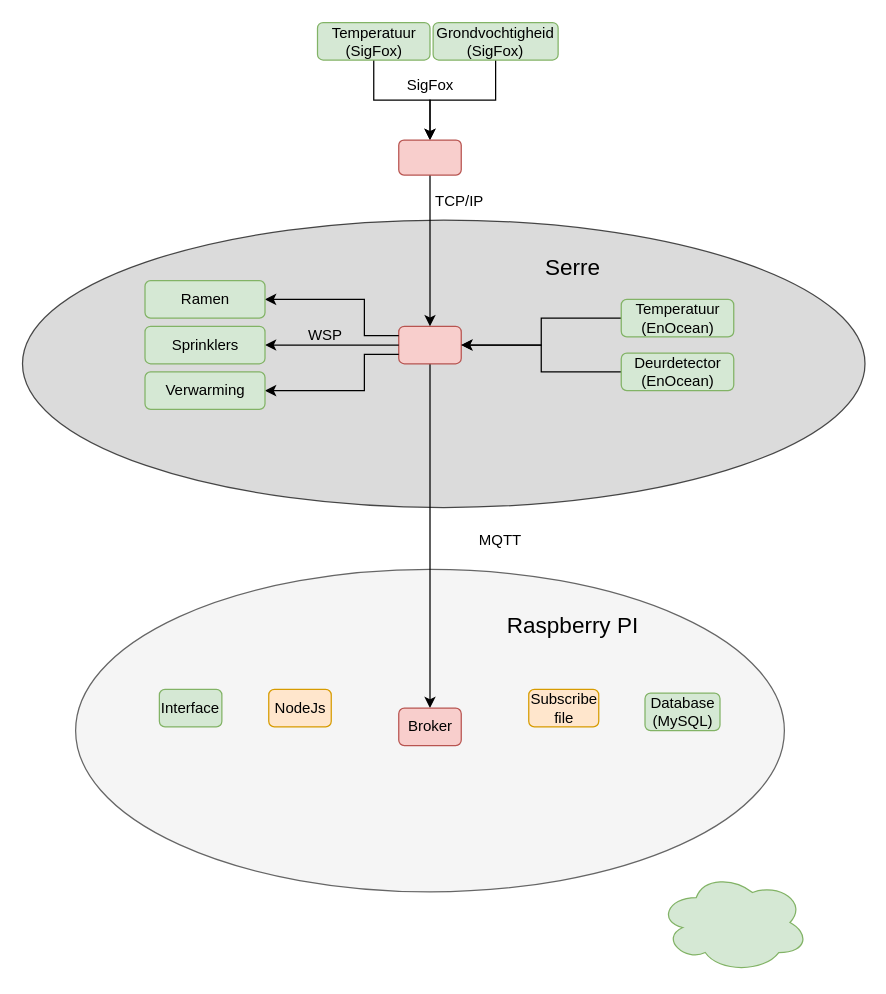
Image size: 886x994. Some labels were removed from this diagram. Each missing label, with the centre of its shape:
Cloudservices: the point at 733,921
Gateway: the point at 429,157
PLC: the point at 429,344
